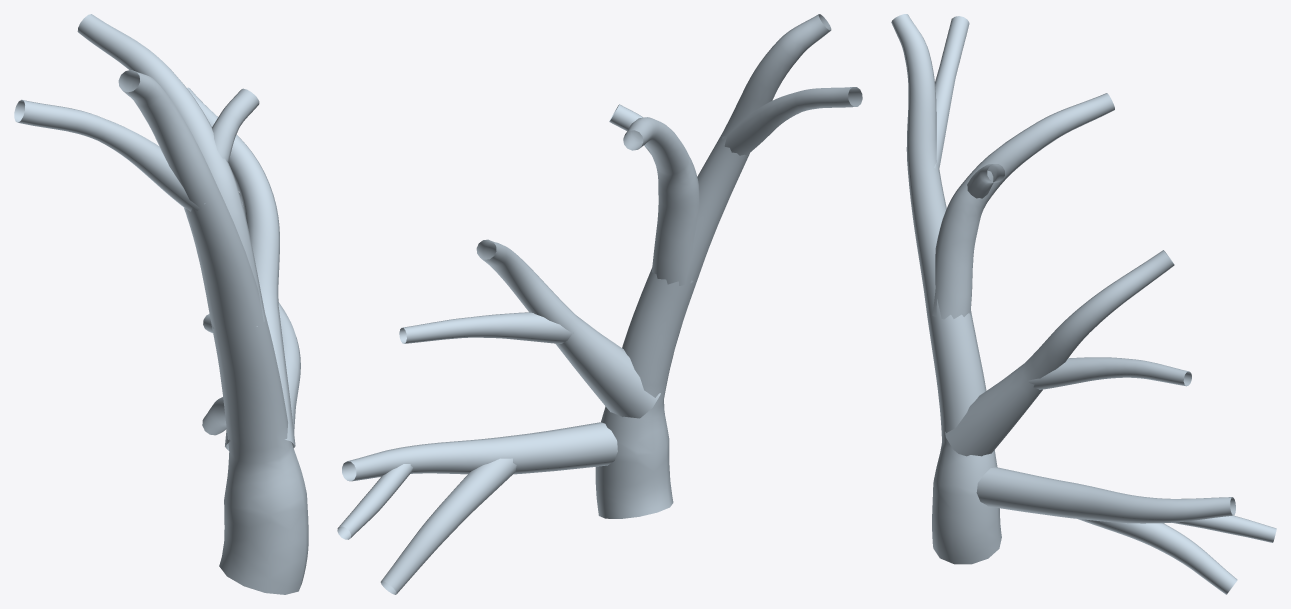
Rendered from visceras-apicoposterior-segmental-bronchus-of-left-lung-bi-bii.glb.
The picture shows the model from 3 angles, left to right: view 1: azimuth 30°, elevation 25°; view 2: azimuth 150°, elevation 25°; view 3: azimuth 270°, elevation 25°; orthographic projection. The views are drawn at different scales.
Visible parts, largest first — view 1: Apicoposterior segmental bronchus of left lung (BI+BII); view 2: Apicoposterior segmental bronchus of left lung (BI+BII); view 3: Apicoposterior segmental bronchus of left lung (BI+BII).
Boxes of the visible parts, <box> form: Apicoposterior segmental bronchus of left lung (BI+BII): <box>14,14,308,594</box>; Apicoposterior segmental bronchus of left lung (BI+BII): <box>337,14,862,594</box>; Apicoposterior segmental bronchus of left lung (BI+BII): <box>891,14,1276,594</box>.
Size of the model in its own units: 0.0619 by 0.0821 by 0.0609.
